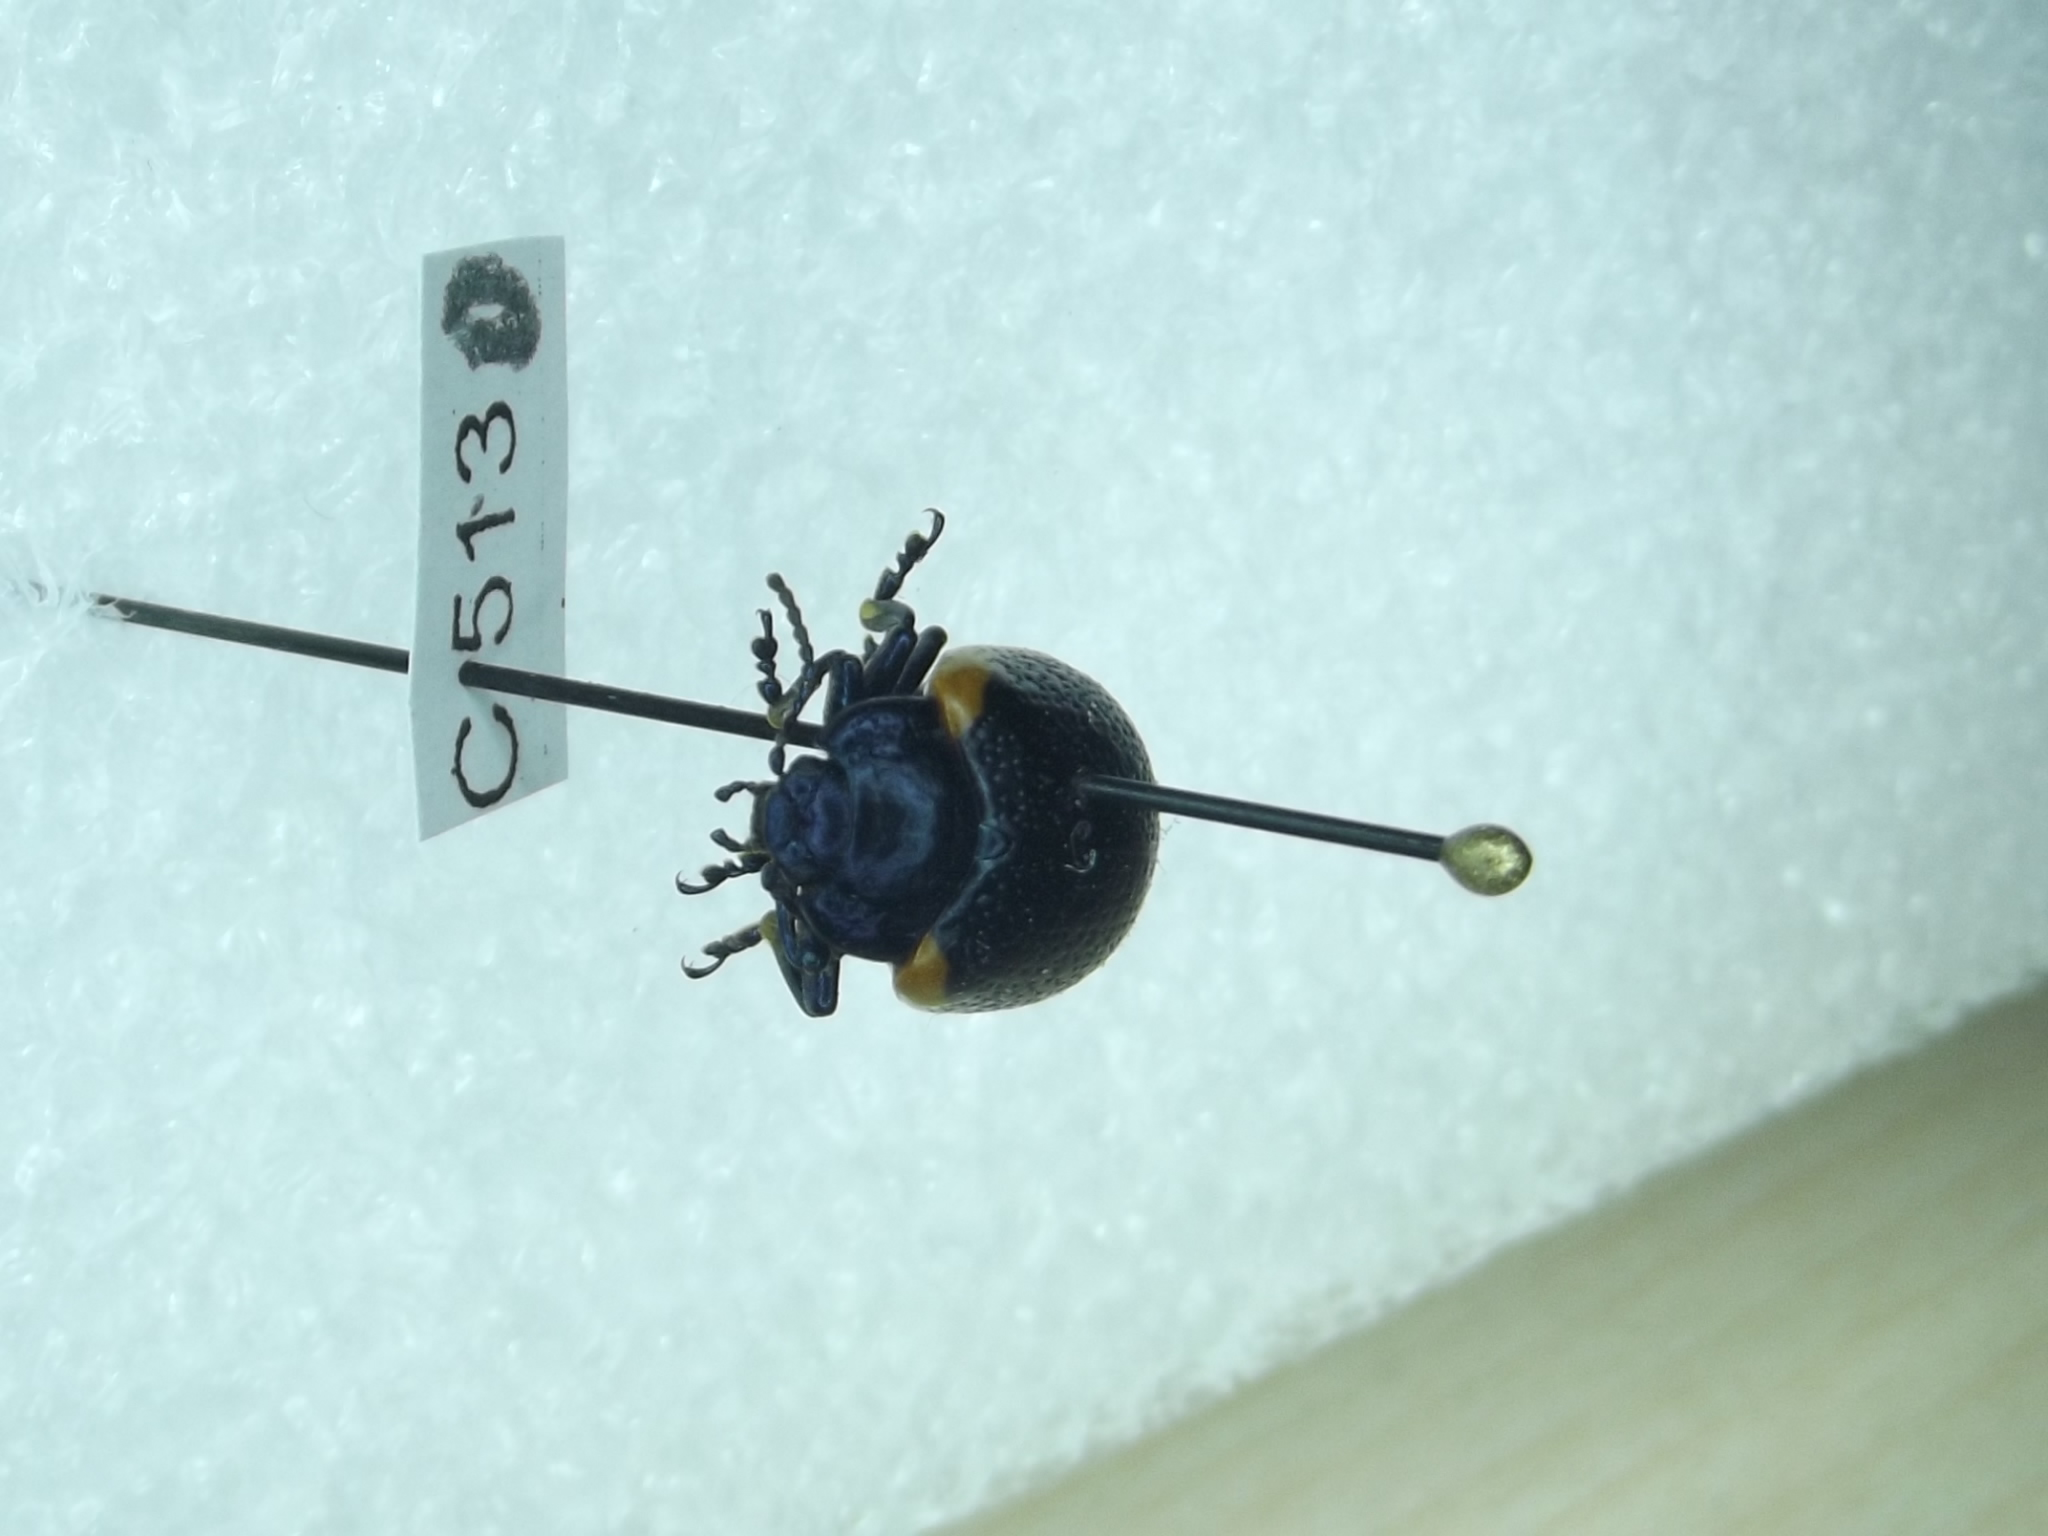Chrysolina_gypsophila: (664, 497, 1177, 1050)
